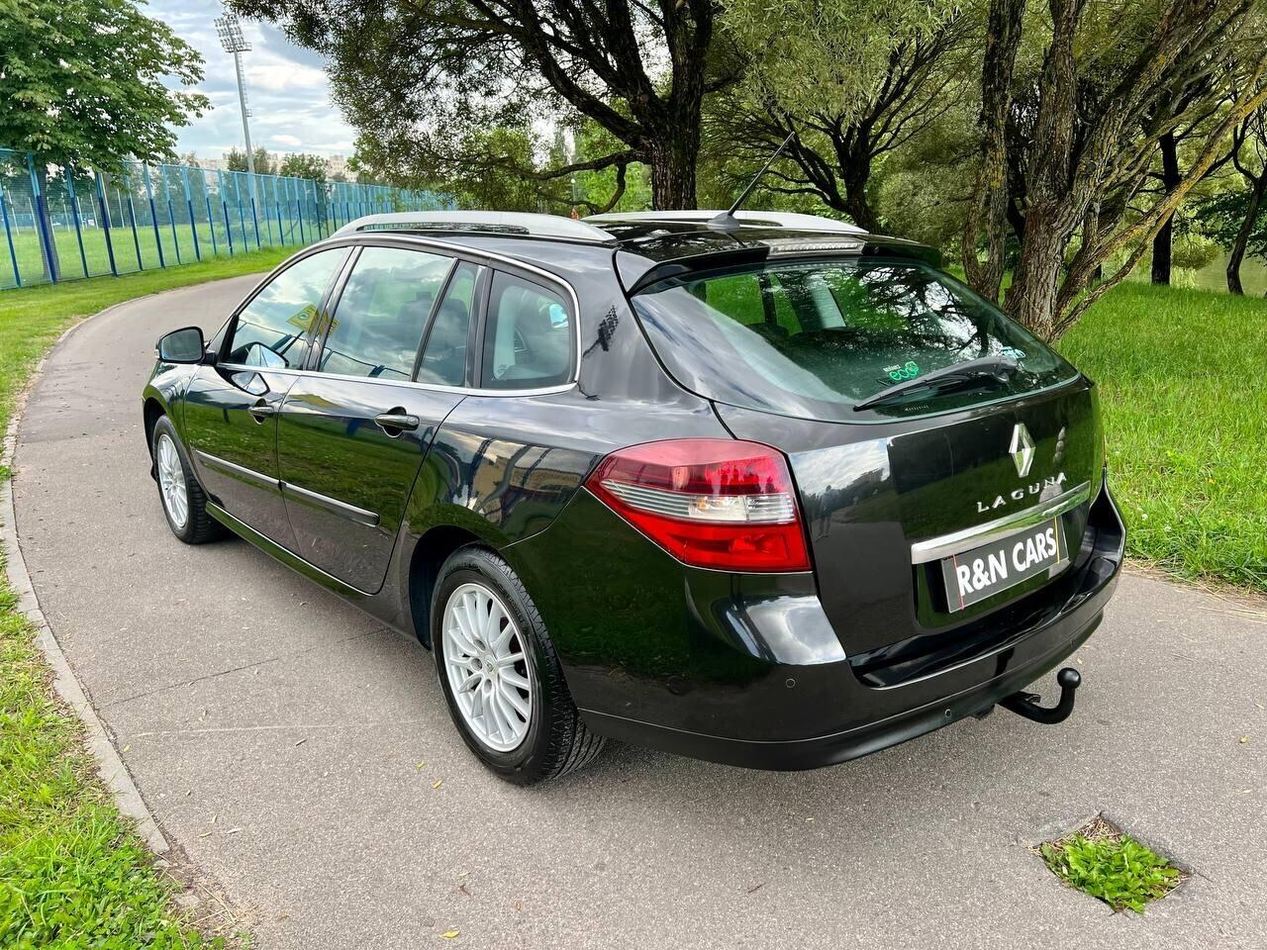Laguna_2010-2015: (130, 200, 1131, 797)
